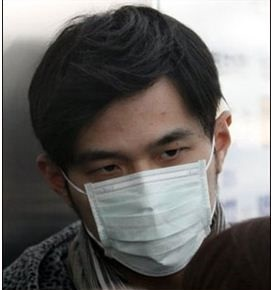face_mask: (68, 86, 212, 266)
